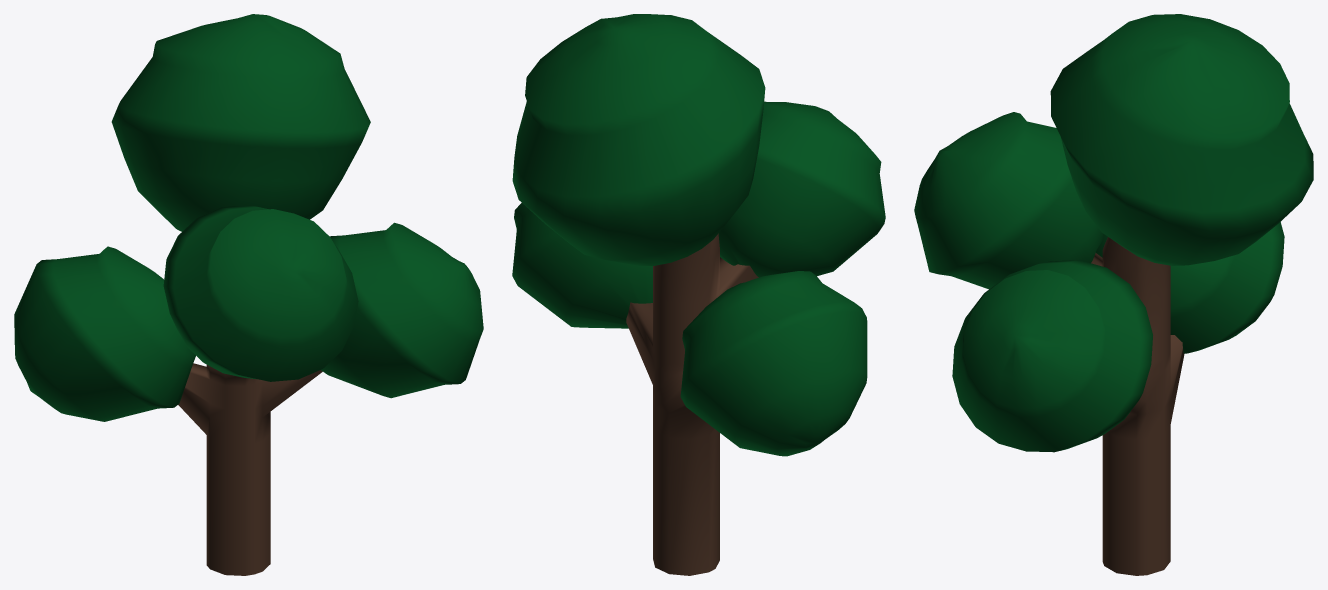
The model's file is tree2.fbx.
3 renders of one model, left to right at view 1: azimuth 30°, elevation 25°; view 2: azimuth 150°, elevation 25°; view 3: azimuth 270°, elevation 25°, orthographic. The views are drawn at different scales.
Parts seen in each view (by area): view 1: pSphere6; view 2: pSphere6; view 3: pSphere6.
Part boxes in pixels (x1=…): pSphere6: x1=14, y1=14, x2=483, y2=575; pSphere6: x1=512, y1=14, x2=885, y2=575; pSphere6: x1=914, y1=14, x2=1313, y2=575.
Bounding box in the file's own units: 3.82 × 4.94 × 3.29.
